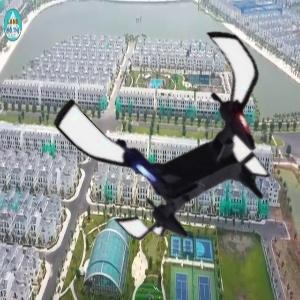drone: (70, 22, 297, 249)
